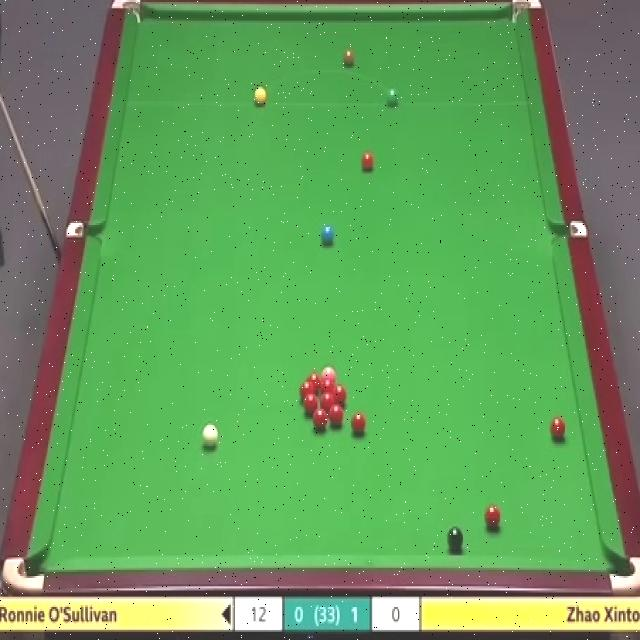black-ball: (446, 526, 464, 551)
blue-ball: (320, 225, 334, 248)
brown-ball: (344, 50, 356, 64)
green-ball: (385, 86, 400, 105)
pink-ball: (322, 367, 336, 377)
red-ball: (485, 505, 501, 528), (328, 403, 344, 426), (303, 394, 317, 416), (551, 417, 565, 438), (352, 413, 366, 434), (361, 150, 374, 172), (313, 409, 327, 429), (335, 385, 348, 406), (308, 371, 322, 389), (298, 382, 313, 395), (323, 376, 334, 392), (320, 394, 334, 405)
white-ball: (201, 423, 219, 450)
yellow-ball: (254, 88, 266, 106)
